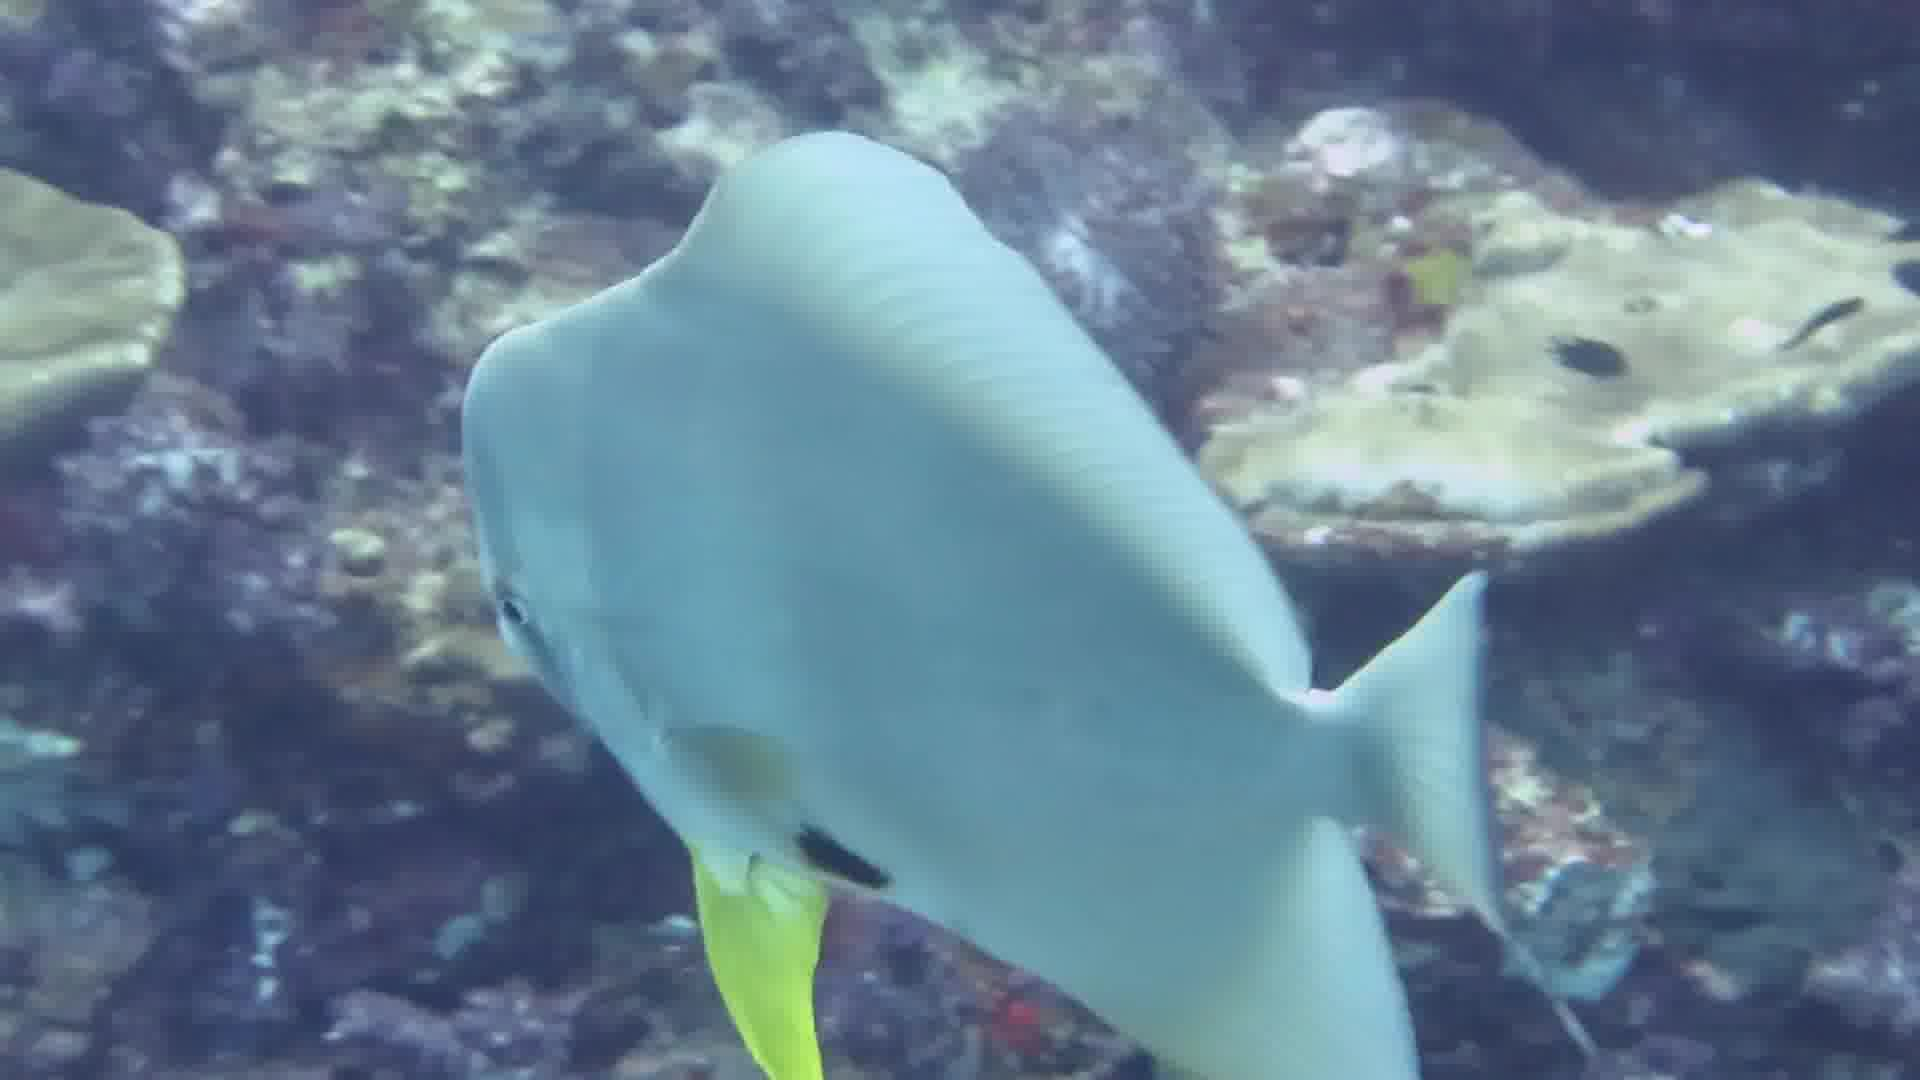Platax teira: (381, 109, 1592, 1059)
